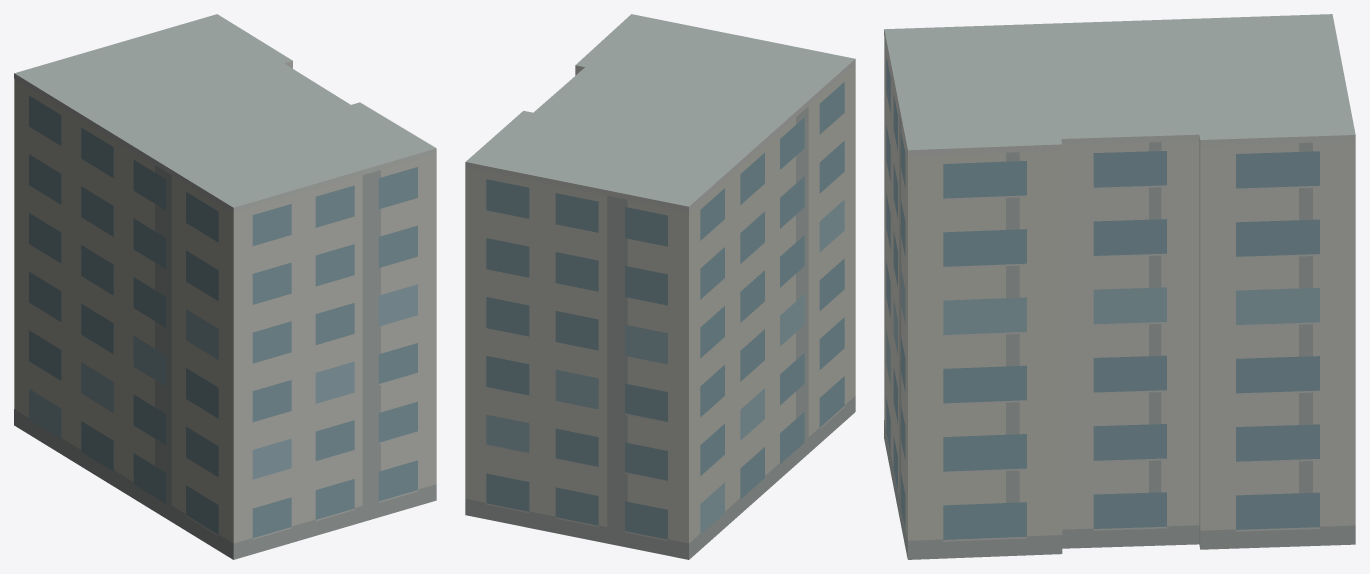
Rendered from survey-upis-32577415.glb.
The picture shows the model from 3 angles, left to right: view 1: azimuth 30°, elevation 25°; view 2: azimuth 150°, elevation 25°; view 3: azimuth 270°, elevation 25°; orthographic projection. The views are drawn at different scales.
Parts seen in each view (by area): view 1: survey-upis-32577415.tmp; view 2: survey-upis-32577415.tmp; view 3: survey-upis-32577415.tmp.
Part boxes in pixels (x1,y1,x2,y2): survey-upis-32577415.tmp: (14, 14, 436, 559); survey-upis-32577415.tmp: (465, 14, 855, 559); survey-upis-32577415.tmp: (884, 14, 1355, 559).
Bounding box in the file's own units: 11.46 × 16.05 × 16.75.
